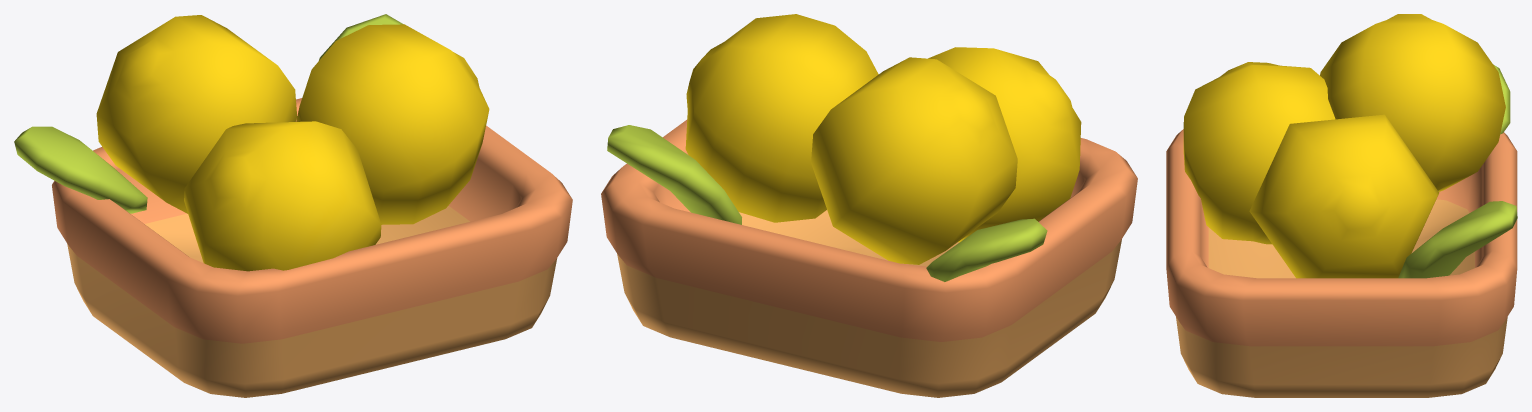
Rendered from Homestead_nm_15.fbx.
3 renders of one model, left to right at view 1: azimuth 30°, elevation 25°; view 2: azimuth 150°, elevation 25°; view 3: azimuth 270°, elevation 25°, orthographic. The views are drawn at different scales.
Parts seen in each view (by area): view 1: Homestead_nm_15; view 2: Homestead_nm_15; view 3: Homestead_nm_15.
Boxes of the visible parts, box(x1,y1,x2,y2) form: Homestead_nm_15: box(14, 14, 572, 397); Homestead_nm_15: box(601, 14, 1137, 397); Homestead_nm_15: box(1166, 14, 1517, 397).
Size of the model in its own units: 60.78 by 37.99 by 46.05.
